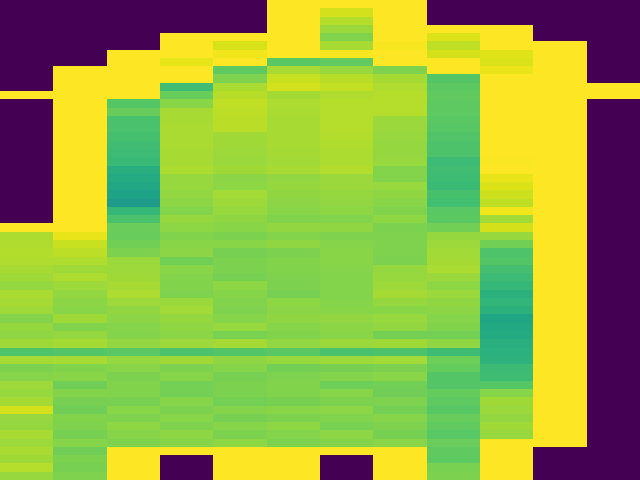car_0027: (3, 4, 640, 480)
